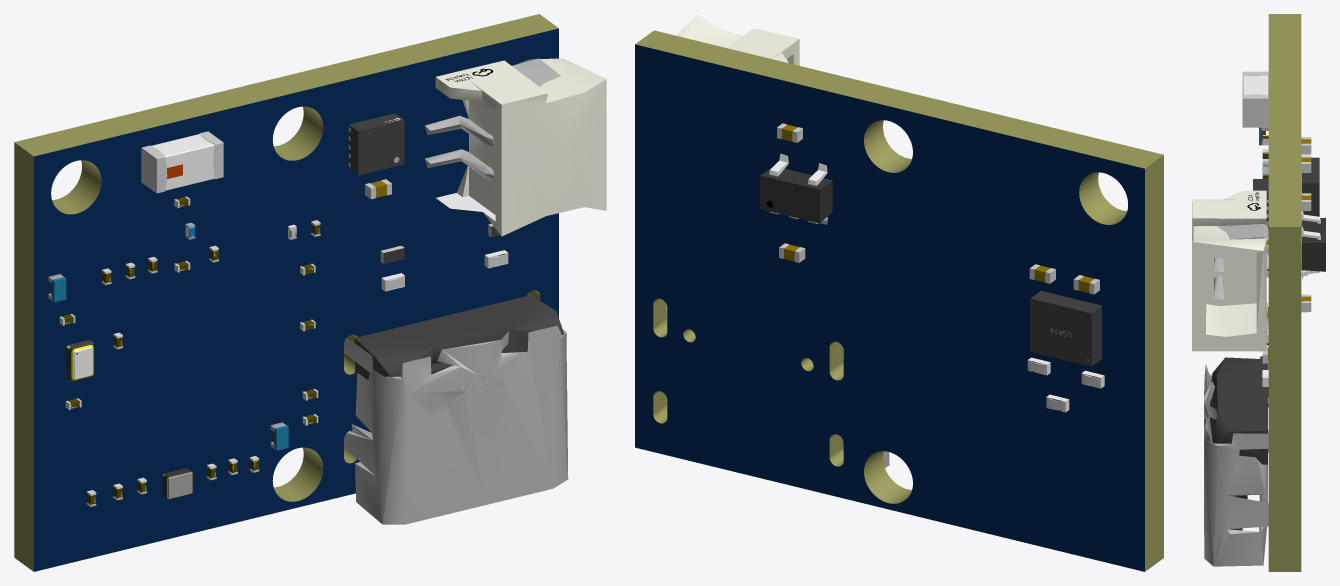
File: pcb.obj
The picture shows the model from 3 angles, left to right: view 1: azimuth 30°, elevation 25°; view 2: azimuth 150°, elevation 25°; view 3: azimuth 270°, elevation 25°; orthographic projection. The views are drawn at different scales.
Bounding box in the file's own units: 25.04 × 19.15 × 6.63.
